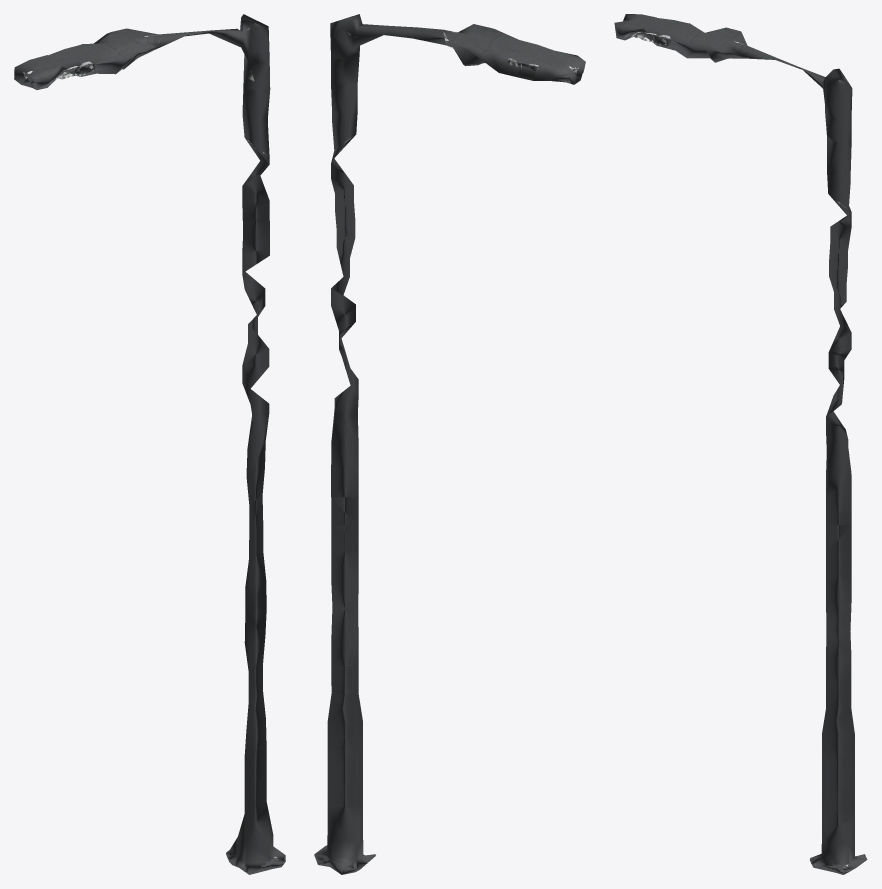
Rendered from lamppost_lod1.glb.
The picture shows the model from 3 angles, left to right: view 1: azimuth 30°, elevation 25°; view 2: azimuth 150°, elevation 25°; view 3: azimuth 330°, elevation 25°; orthographic projection. The views are drawn at different scales.
Visible parts, largest first — view 1: mesh_node; view 2: mesh_node; view 3: mesh_node.
Boxes of the visible parts, left/top/right/bottom form: mesh_node: left=14, top=14, right=285, bottom=874; mesh_node: left=314, top=14, right=585, bottom=874; mesh_node: left=614, top=14, right=867, bottom=874.
Size of the model in its own units: 0.6036 by 1.9 by 0.1103.
1 material, 1 textured.
